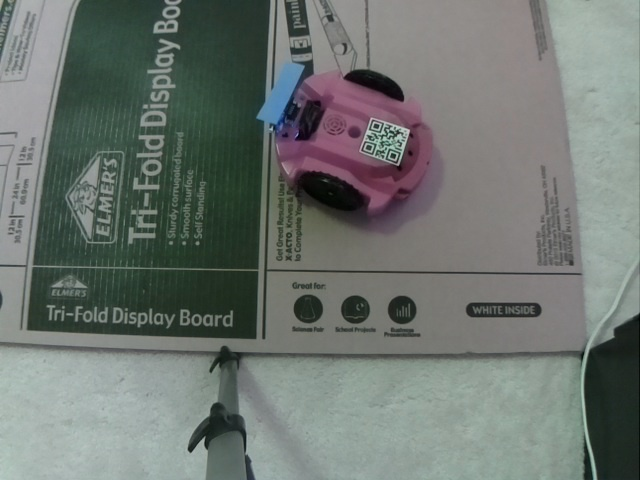board: (254, 56, 312, 135)
chassis: (255, 58, 436, 216)
